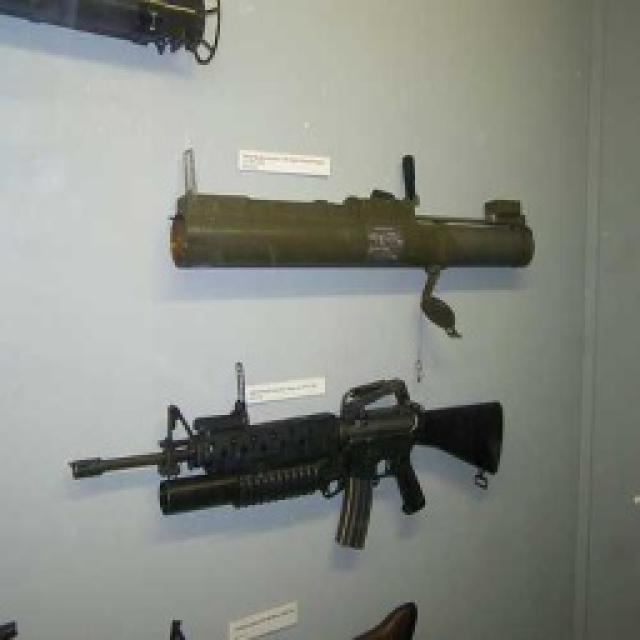long weapon: (43, 359, 531, 545), (136, 158, 582, 351)
